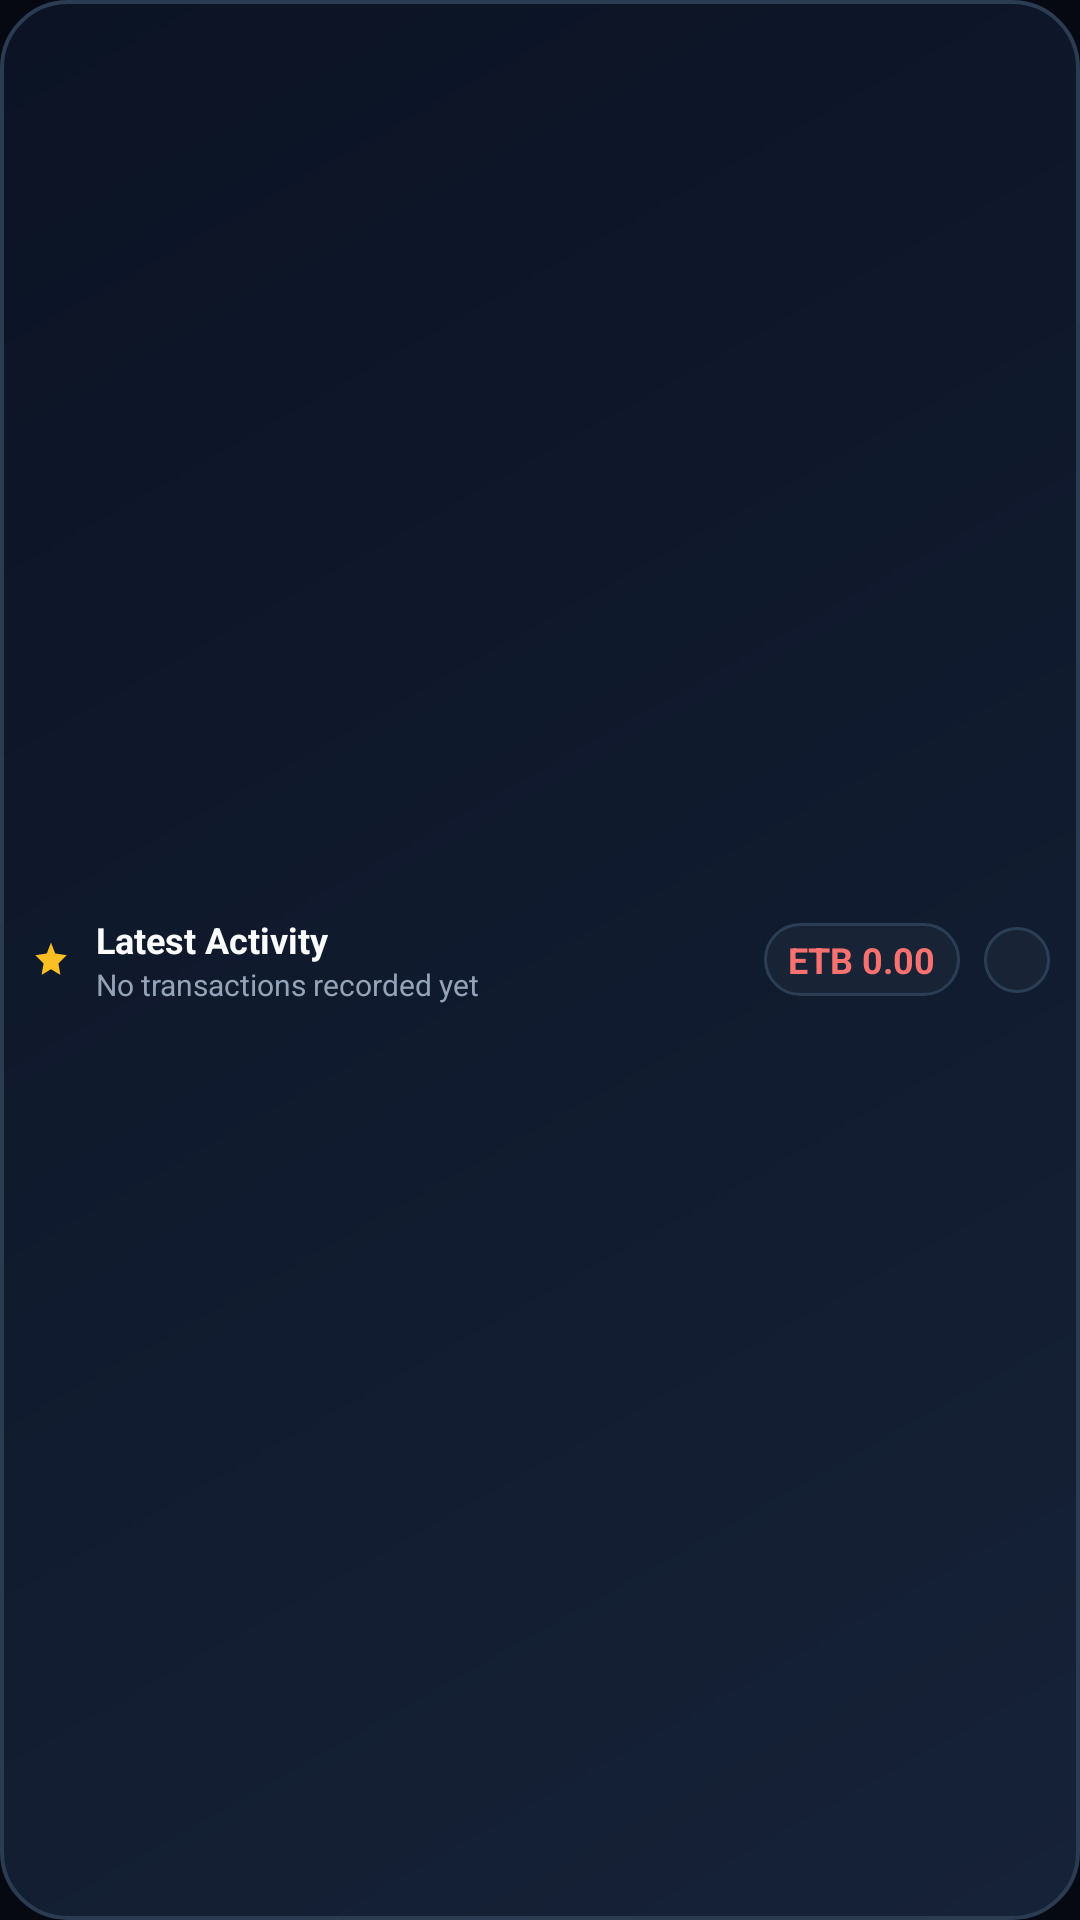

Point at icon controls on the screen. Image size 1080*1920, points as (x,y).
widget sparkle: (51,959)
